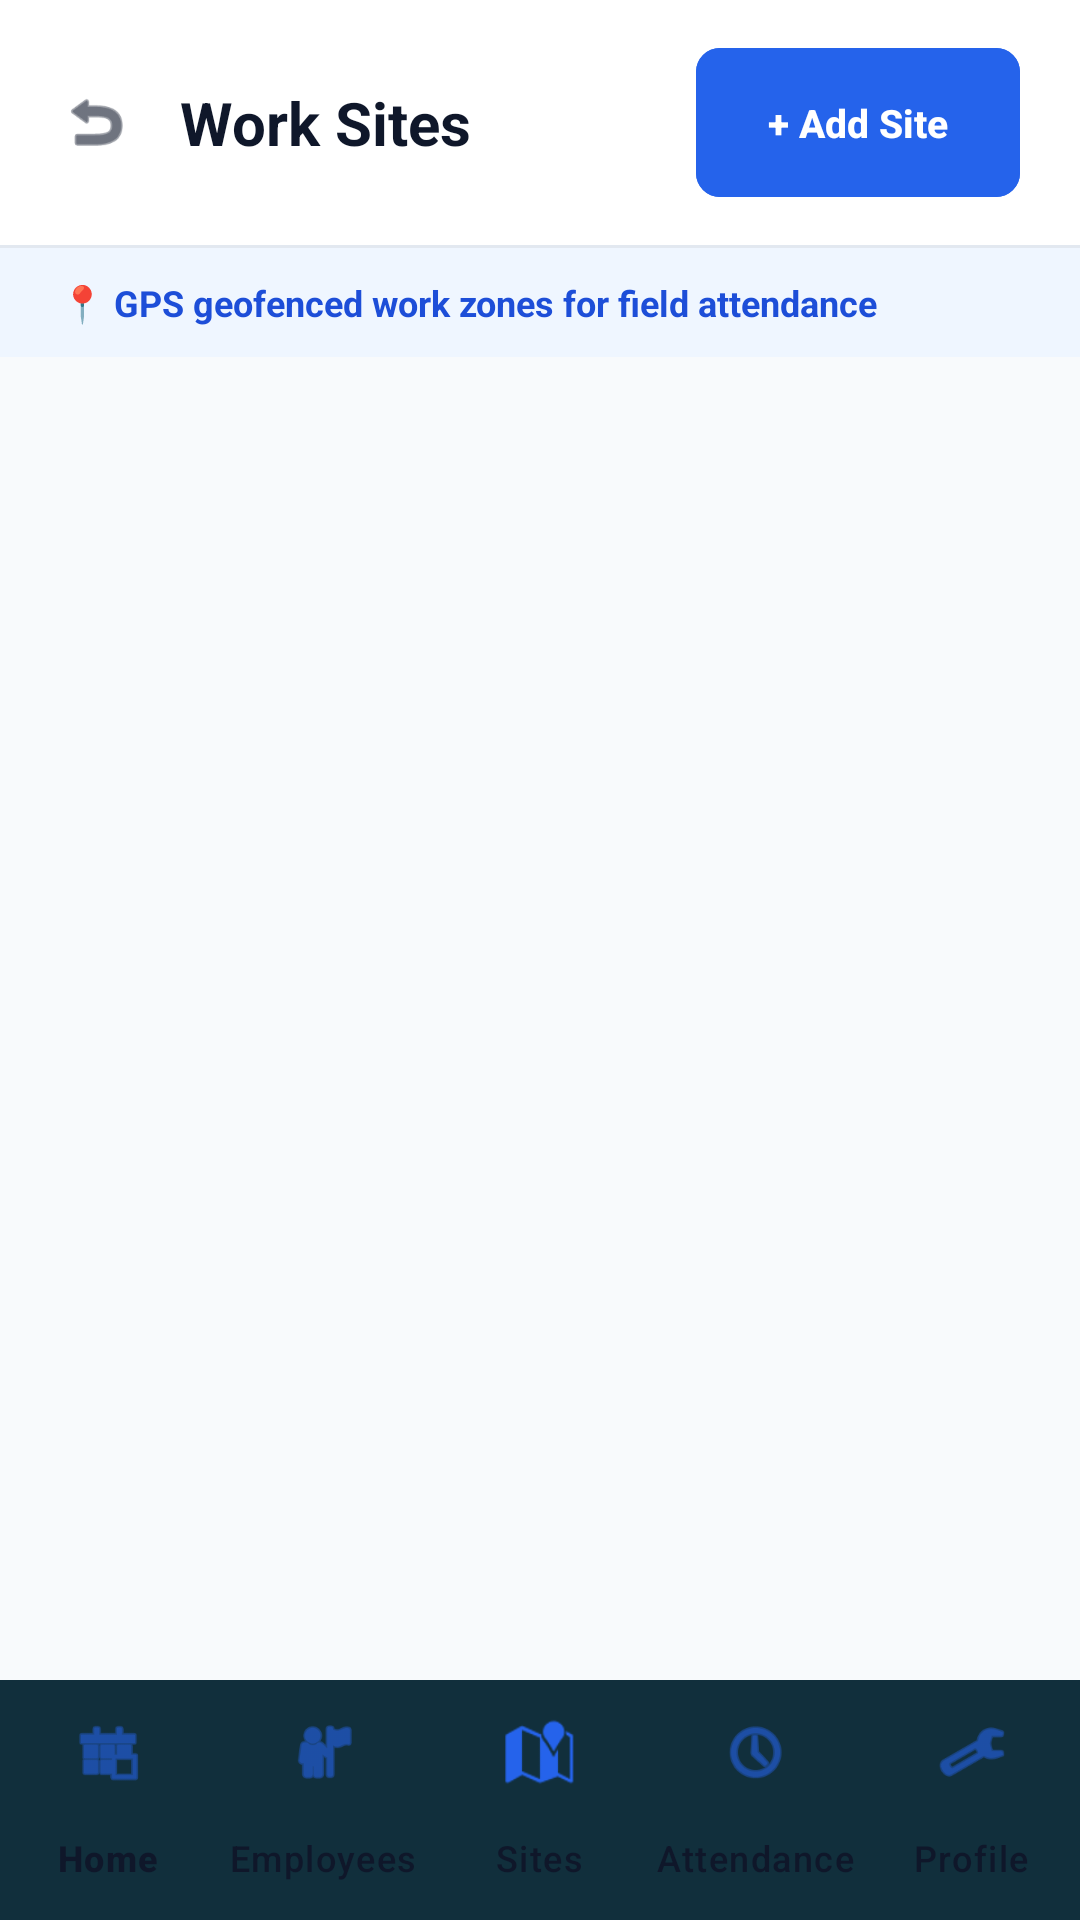

Named icons in this screenshot (1080x1920) and their bounding boxes, (x1, y1, x2, y2):
revert: (71, 99, 123, 146)
